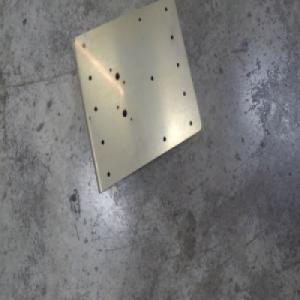MetalSheet: (69, 0, 203, 196)
